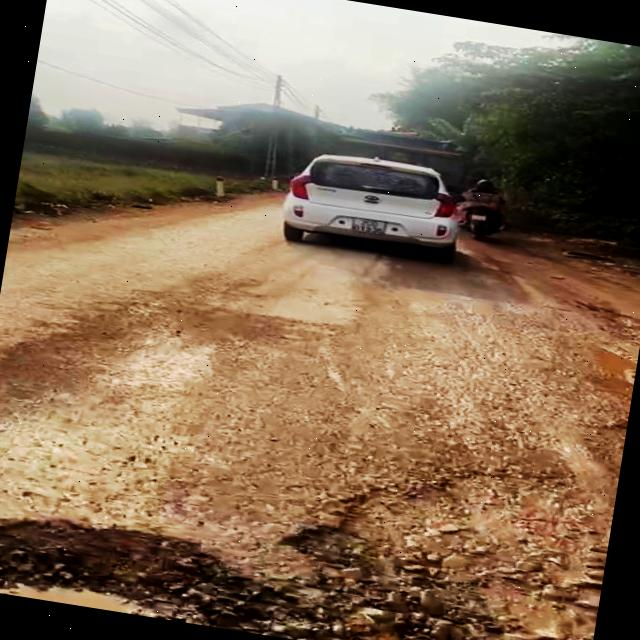pothole: (0, 383, 618, 640)
